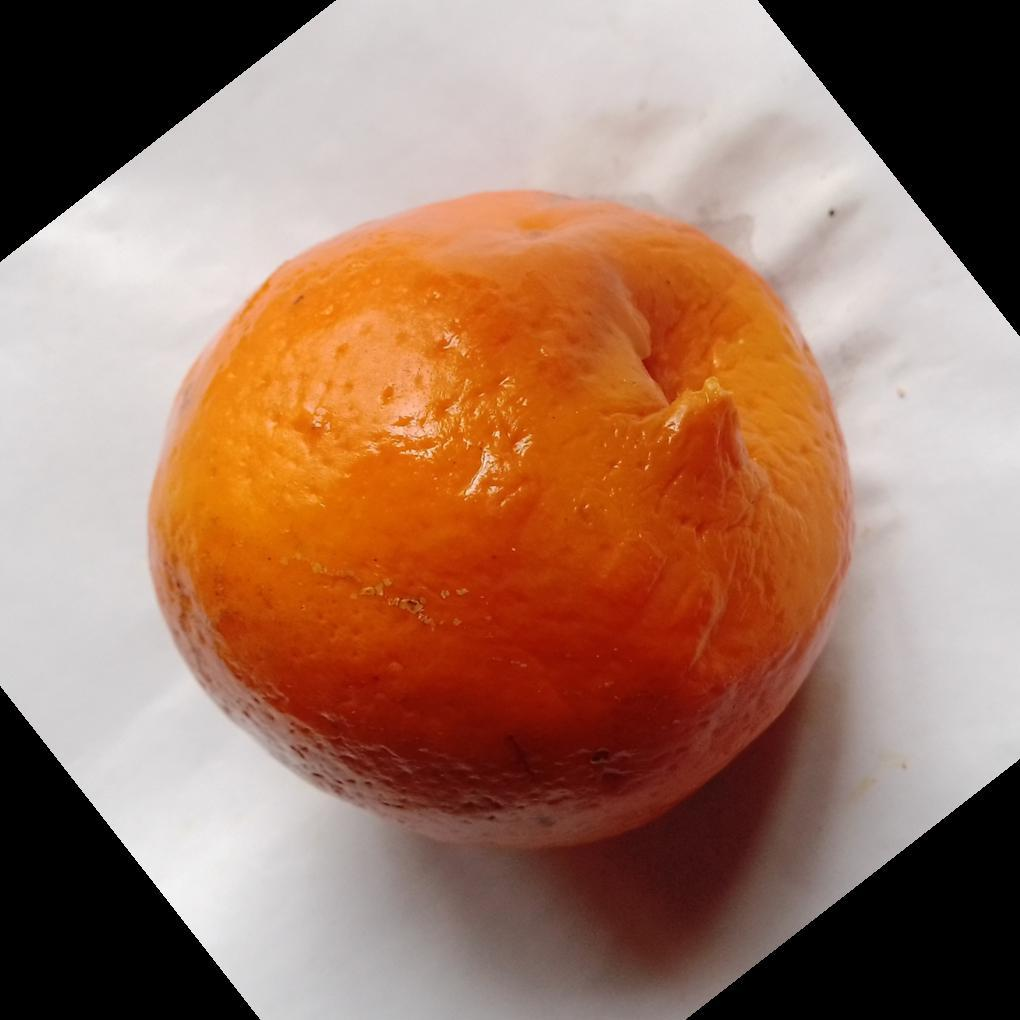FreshOrange: (145, 190, 856, 858)
